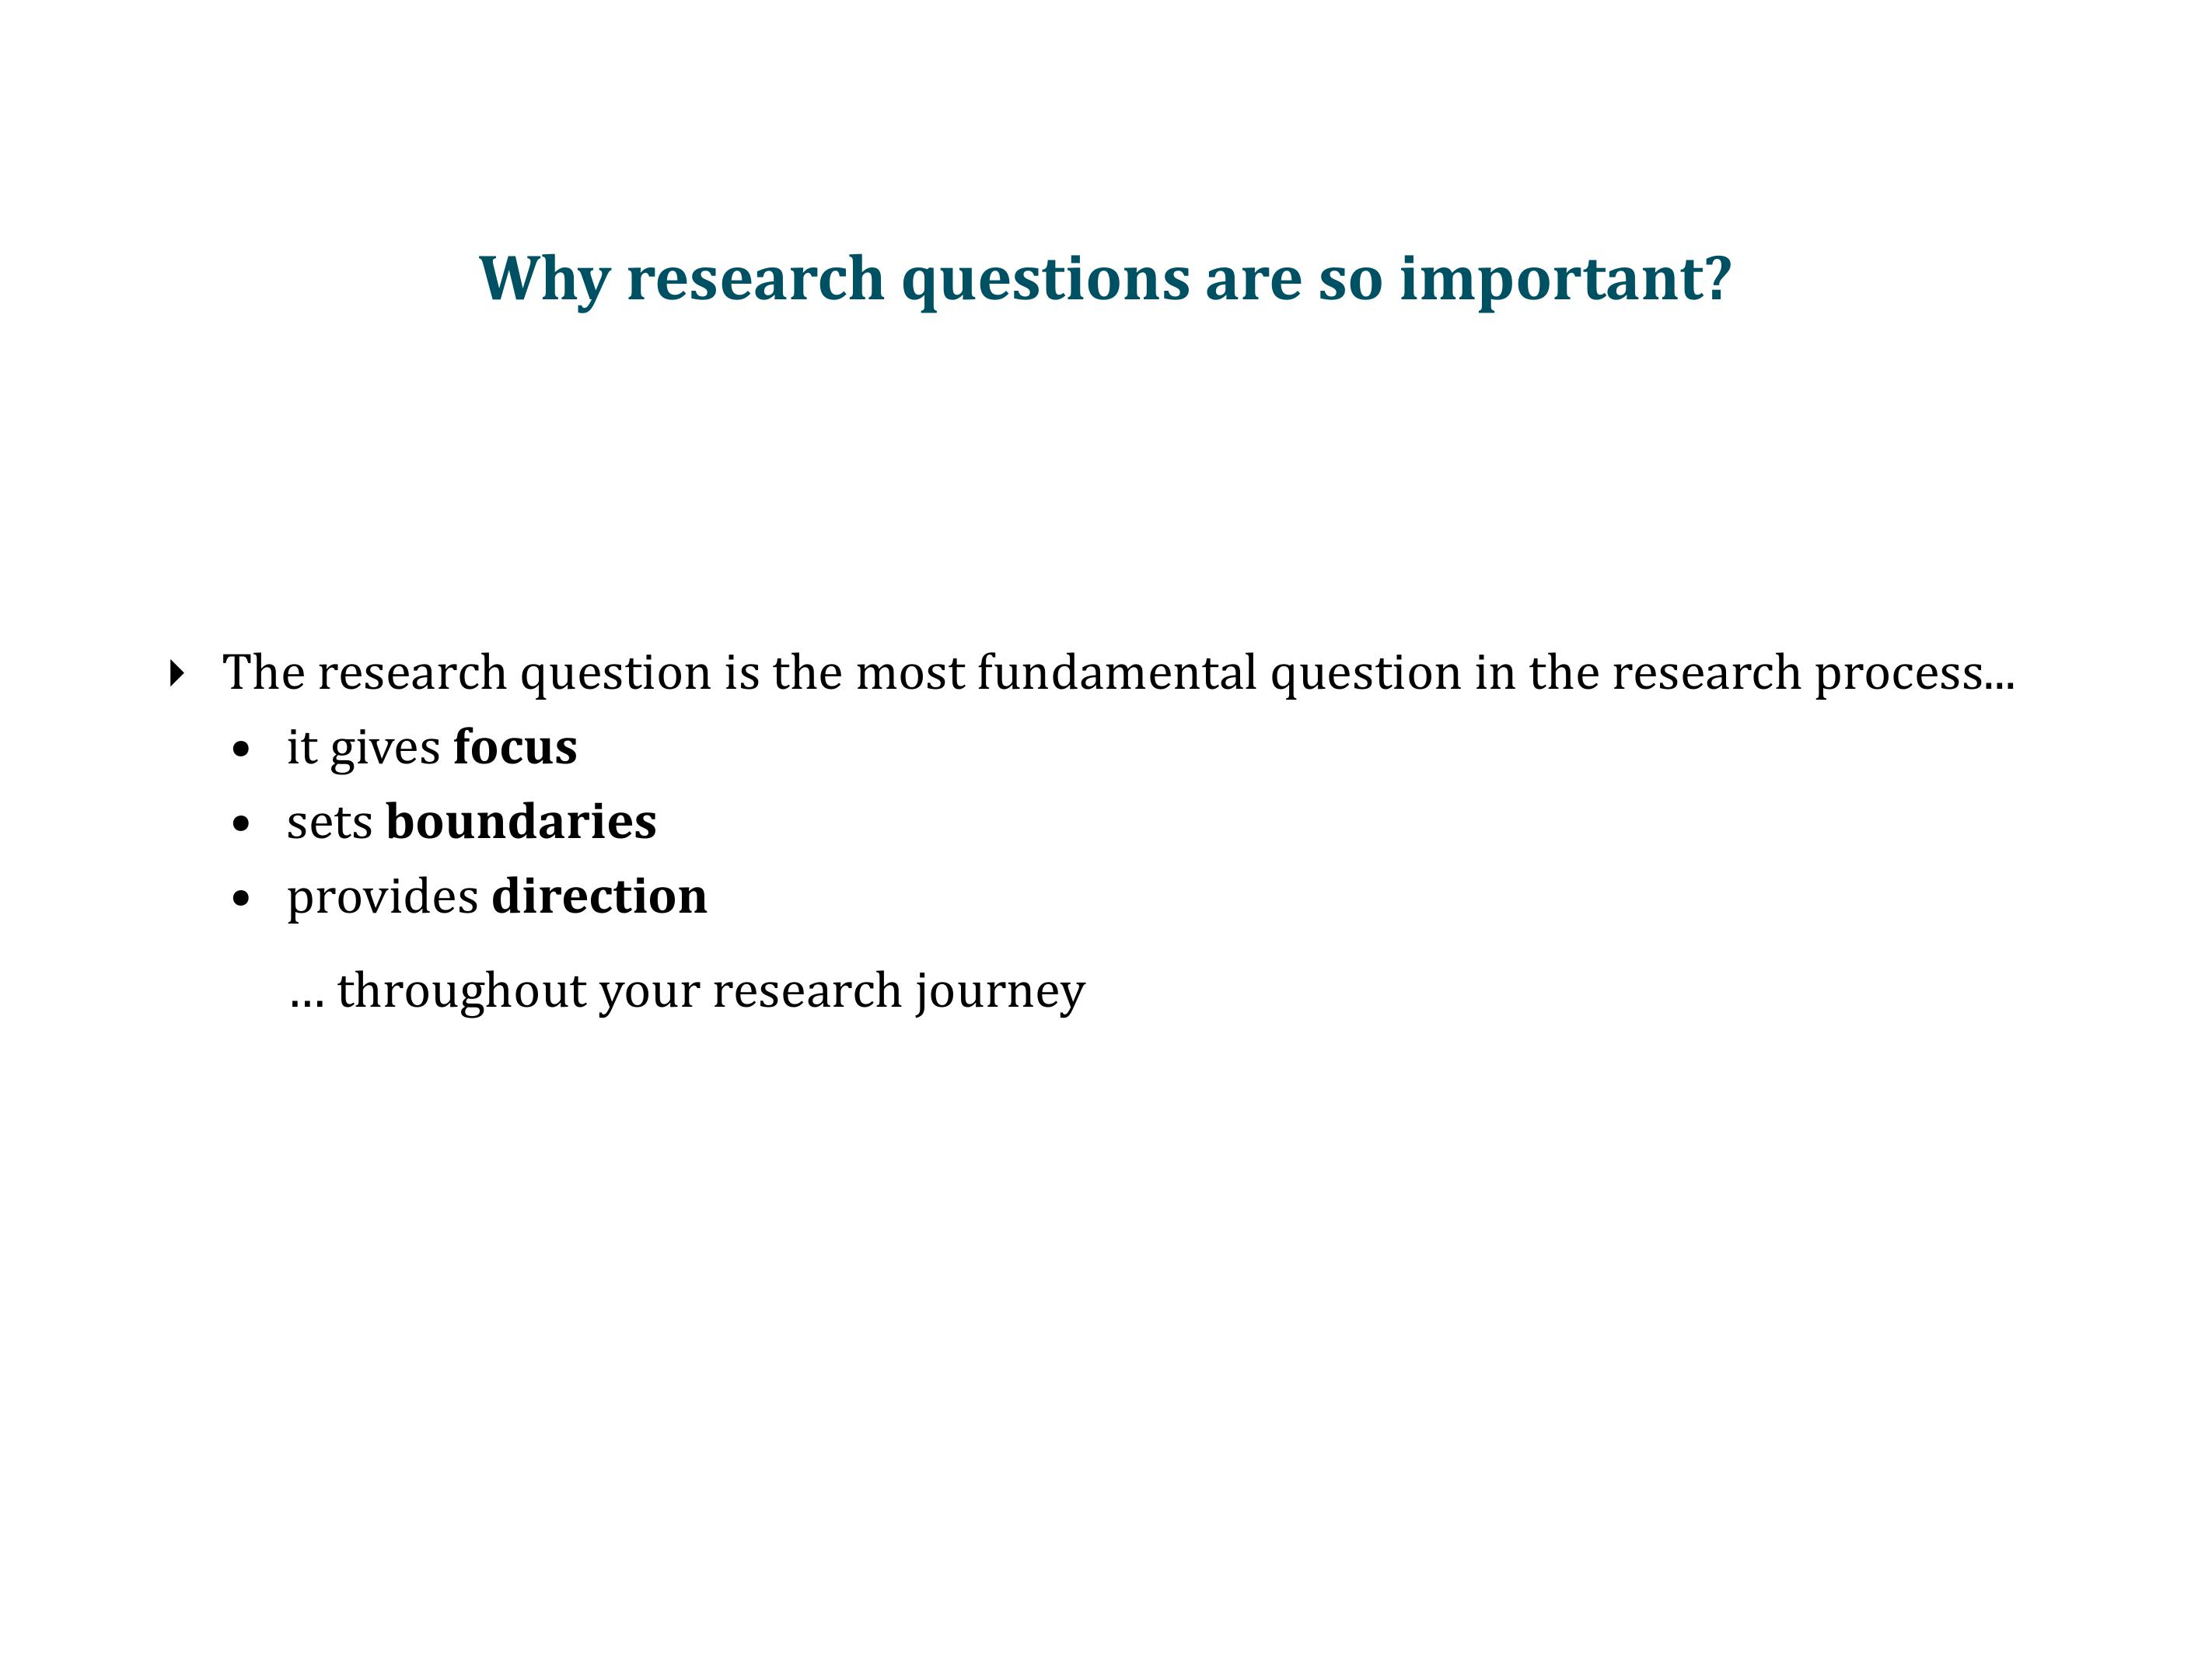Title: (453, 230, 1759, 331)
